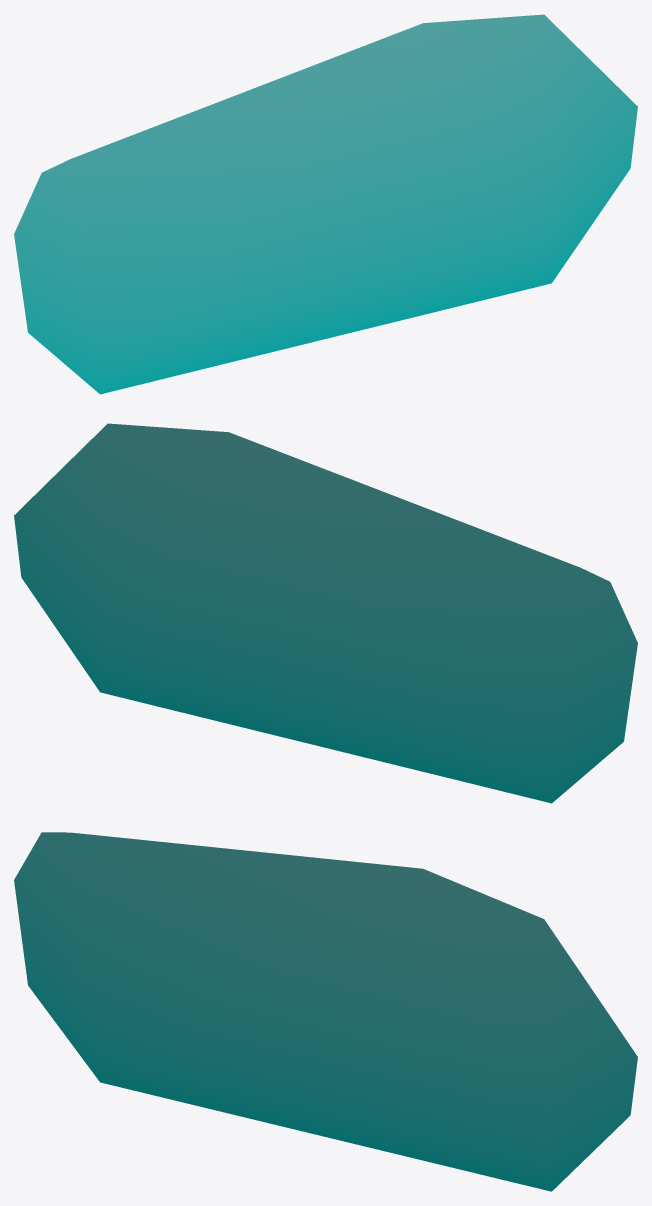
File: Grass_Clumps_qmBr2_High_qmBr2_VarC_LOD2.fbx
3 renders of one model, top to bottom at view 1: azimuth 30°, elevation 25°; view 2: azimuth 150°, elevation 25°; view 3: azimuth 330°, elevation 25°, orthographic.
Visible parts, largest first — view 1: _696d_VarC_LOD3; view 2: _696d_VarC_LOD3; view 3: _696d_VarC_LOD3.
Part boxes in pixels (left/top/right/bottom): _696d_VarC_LOD3: left=14, top=14, right=637, bottom=394; _696d_VarC_LOD3: left=14, top=423, right=637, bottom=803; _696d_VarC_LOD3: left=14, top=832, right=637, bottom=1191.
Bounding box in the file's own units: 55.58 × 24.9 × 0.
